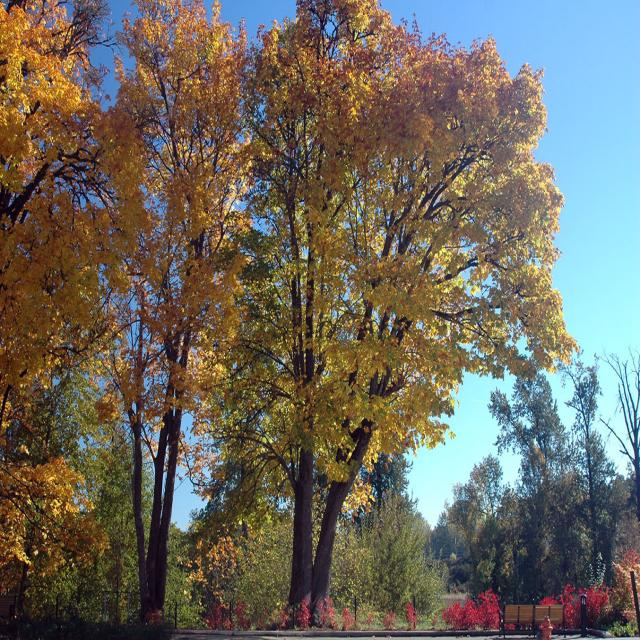Acer macrophyllum: (215, 0, 579, 621), (94, 0, 256, 615)
